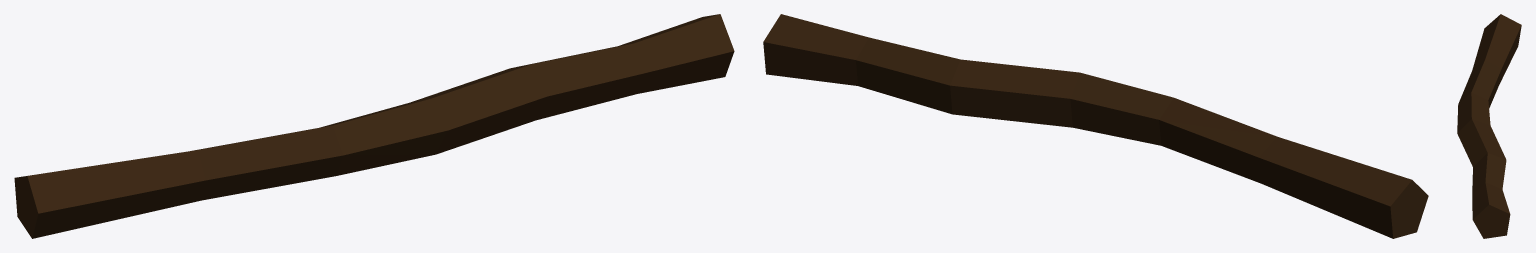
Rendered from Galaz_3.fbx.
The picture shows the model from 3 angles, left to right: view 1: azimuth 30°, elevation 25°; view 2: azimuth 150°, elevation 25°; view 3: azimuth 270°, elevation 25°; orthographic projection. The views are drawn at different scales.
Parts seen in each view (by area): view 1: Galaz_3; view 2: Galaz_3; view 3: Galaz_3.
Boxes of the visible parts, left/top/right/bottom form: Galaz_3: left=14, top=14, right=734, bottom=238; Galaz_3: left=763, top=14, right=1428, bottom=238; Galaz_3: left=1457, top=14, right=1521, bottom=238.
Bounding box in the file's own units: 609 × 53.32 × 86.01.
